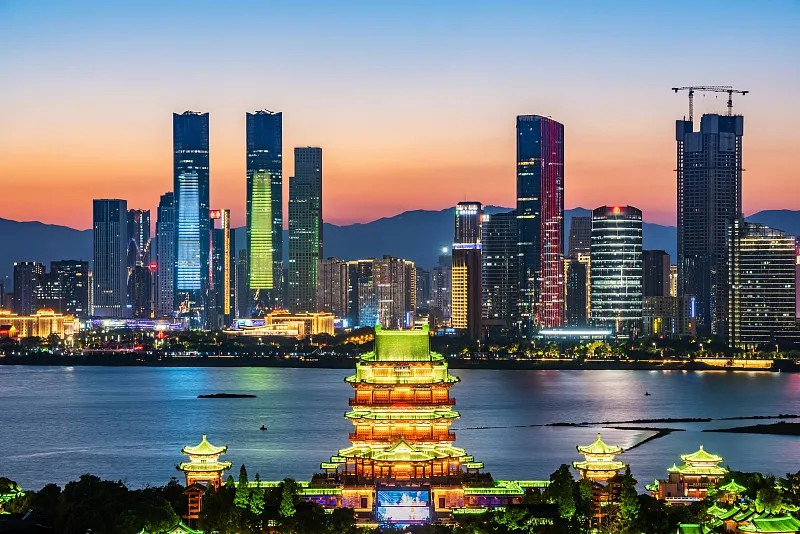Teng: (321, 326, 483, 480)
